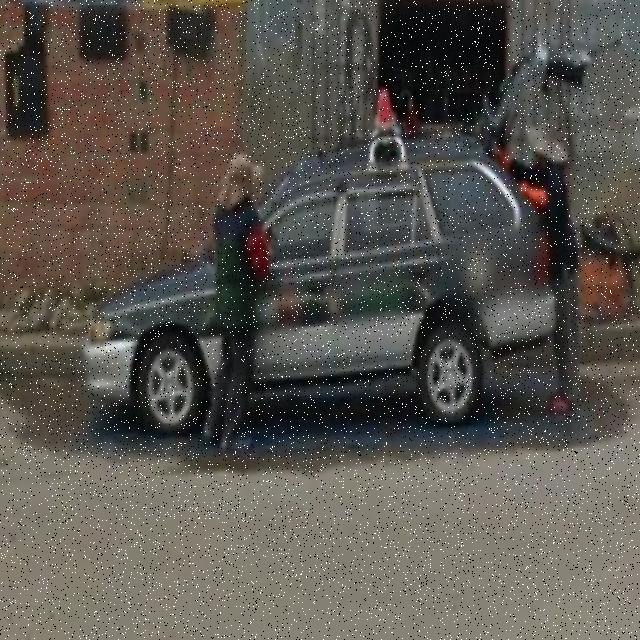cars: (78, 156, 566, 432)
